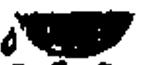Basket: (1, 10, 138, 60)
